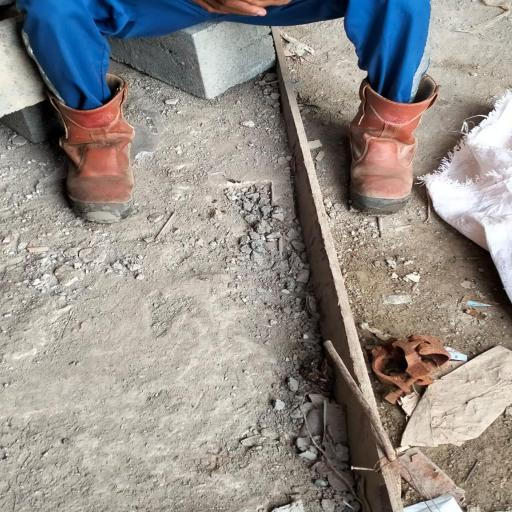safety_shoe: (42, 79, 146, 224), (337, 84, 440, 211)
